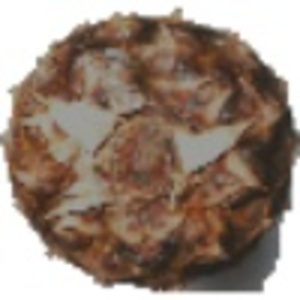abacaxi: (5, 12, 295, 284)
